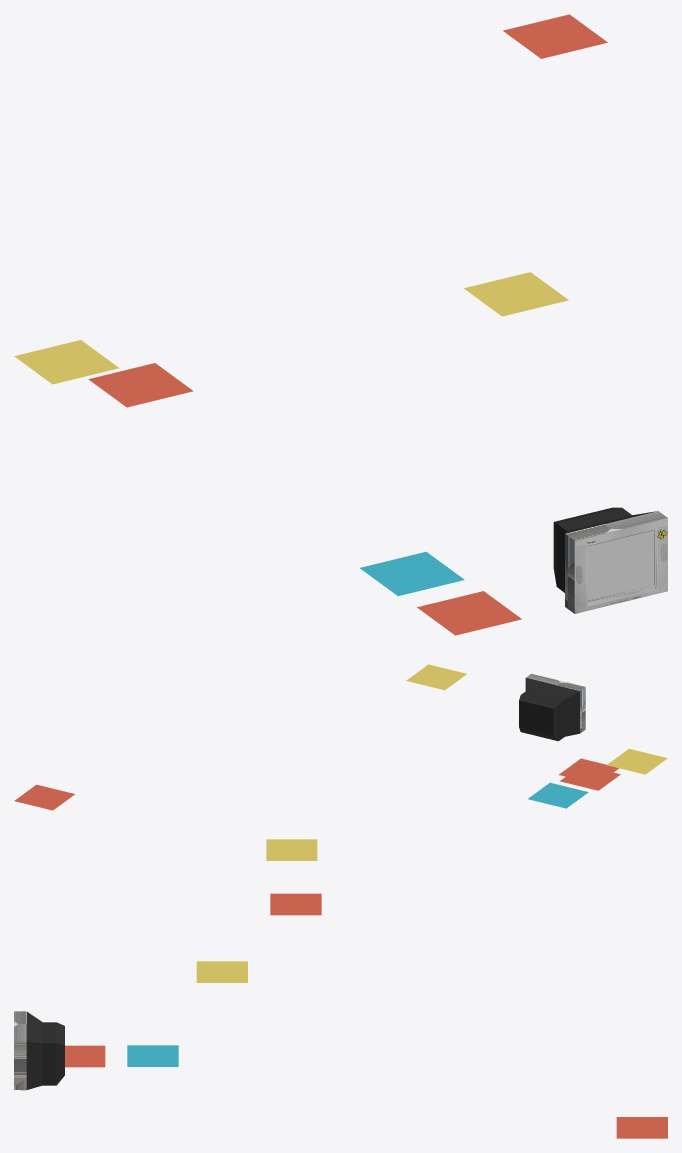
The picture shows the model from 3 angles, top to bottom: view 1: azimuth 30°, elevation 25°; view 2: azimuth 150°, elevation 25°; view 3: azimuth 270°, elevation 25°; orthographic projection. The views are drawn at different scales.
Visible parts, largest first — view 1: TVMesh, ScreenMesh, Plane.002, Plane.003, Plane, Plane.001, Plane.005, Plane.004; view 2: TVMesh, Plane.005, Plane, Plane.001, Plane.003, Plane.002, Plane.004; view 3: TVMesh, Plane.002, Plane, Plane.001, Plane.005, Plane.003, Plane.004.
Boxes of the visible parts, x1,y1,x2,y2 form: TVMesh: (553, 507, 667, 613); ScreenMesh: (587, 530, 653, 600); Plane.002: (88, 363, 193, 407); Plane.003: (503, 14, 607, 58); Plane: (14, 340, 119, 384); Plane.001: (360, 551, 464, 596); Plane.005: (464, 272, 568, 316); Plane.004: (417, 591, 521, 635); TVMesh: (519, 673, 585, 741); Plane.005: (406, 664, 466, 690); Plane: (607, 749, 667, 774); Plane.001: (528, 782, 588, 808); Plane.003: (14, 784, 74, 810); Plane.002: (560, 765, 620, 790); Plane.004: (559, 758, 618, 776); TVMesh: (14, 1011, 64, 1090); Plane.002: (270, 893, 321, 915); Plane: (266, 839, 317, 860); Plane.001: (127, 1045, 178, 1066); Plane.005: (196, 961, 247, 982); Plane.003: (616, 1117, 667, 1138); Plane.004: (65, 1045, 105, 1067).
Size of the model in its own units: 24.5 by 5.8 by 25.53.
9 materials, 1 textured.
